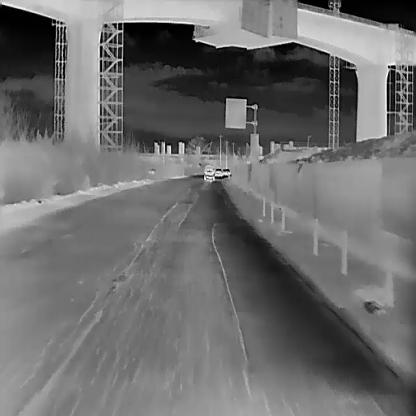car: (204, 164, 214, 181), (214, 168, 222, 180), (223, 167, 230, 176)
